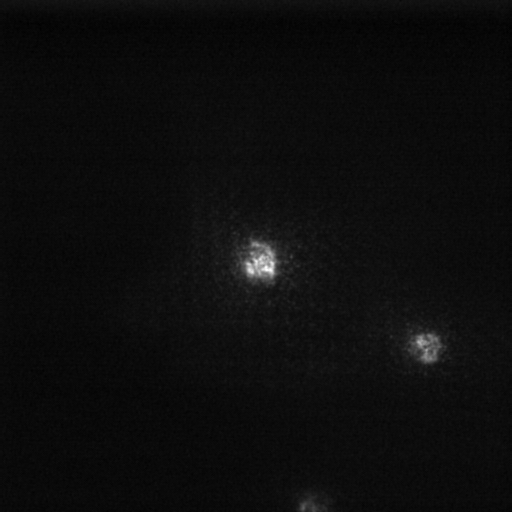lam1: (240, 241, 279, 280), (410, 334, 441, 362)
